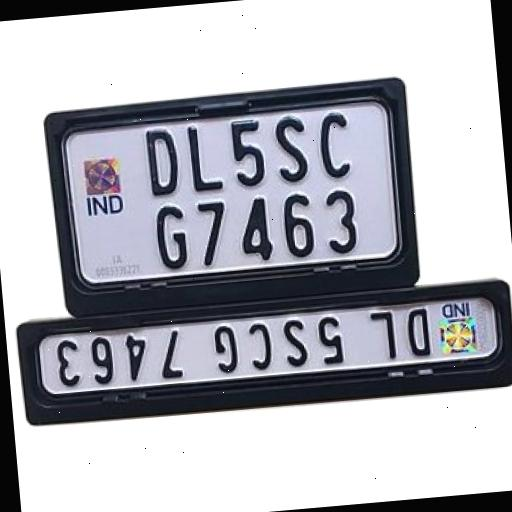number plate: (48, 90, 422, 298), (28, 290, 510, 413)
